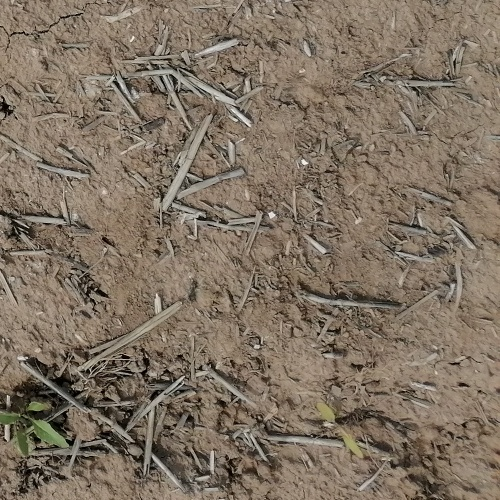beet: (0, 401, 70, 456), (317, 403, 366, 460)
